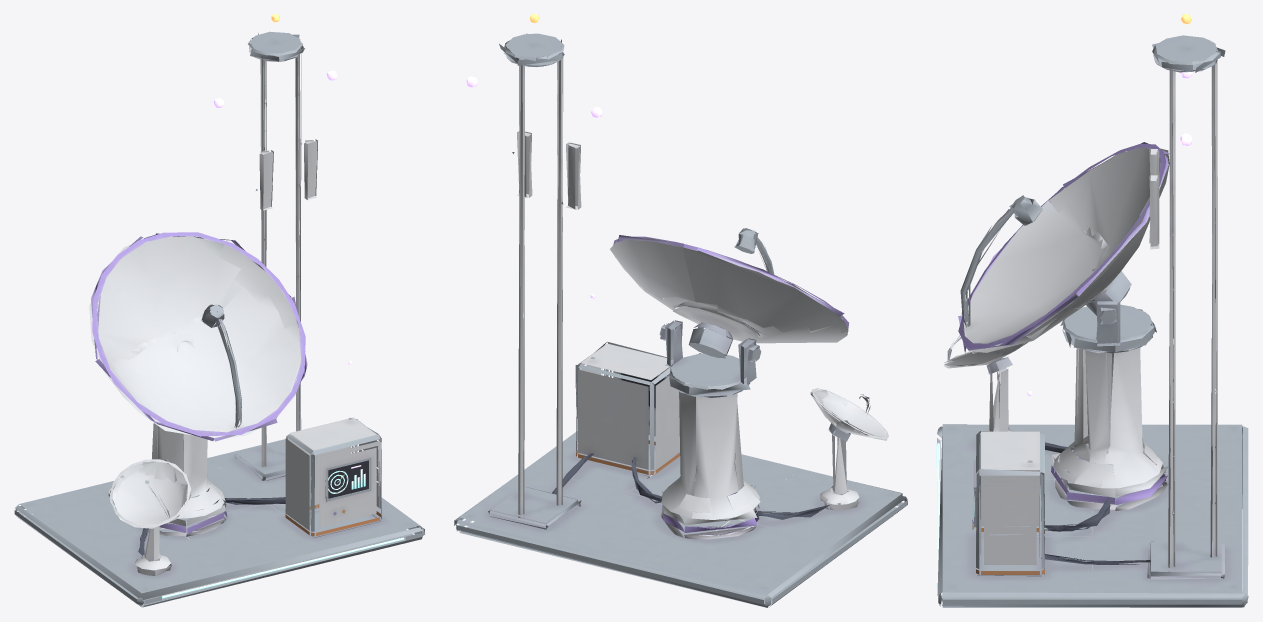
Rendered from RiftRelay.glb.
The picture shows the model from 3 angles, left to right: view 1: azimuth 30°, elevation 25°; view 2: azimuth 150°, elevation 25°; view 3: azimuth 270°, elevation 25°; orthographic projection. The views are drawn at different scales.
Visible parts, largest first — view 1: antenna-array_body, antenna-array_lights_glow; view 2: antenna-array_body; view 3: antenna-array_body, antenna-array_lights_glow.
Part boxes in pixels (<box>): antenna-array_body: <box>14,31,424,607</box>; antenna-array_lights_glow: <box>162,14,403,598</box>; antenna-array_body: <box>454,33,907,607</box>; antenna-array_body: <box>937,35,1248,607</box>; antenna-array_lights_glow: <box>936,14,1192,588</box>.
Size of the model in its own units: 2.71 by 4 by 2.
Materials: 4 (1 with a texture image).
